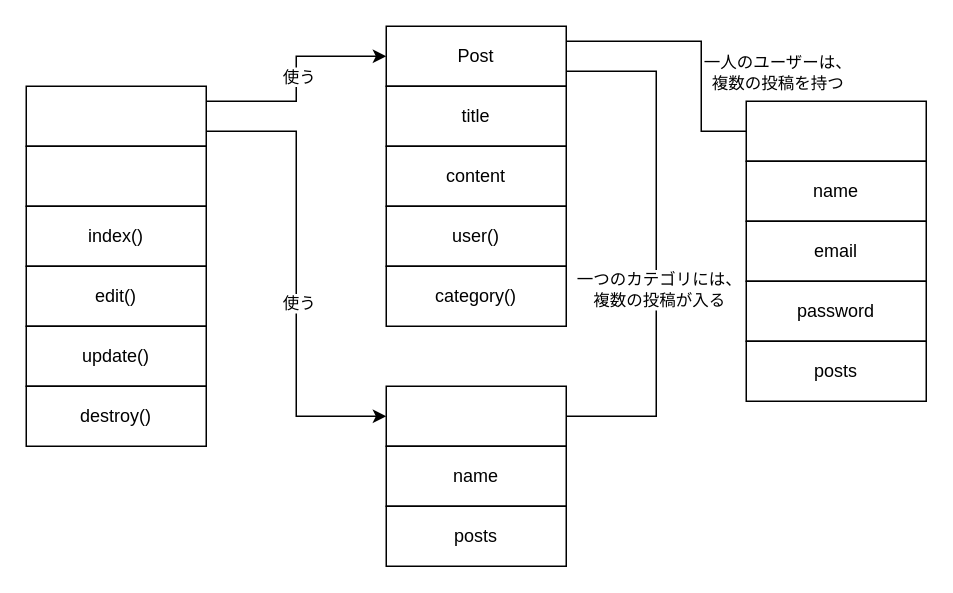
Image size: 953x593. Some labels were removed from this diagram. The shapes that lost their labels are listed below. From the top down, each one's box as (x1, y1, x2, y2) in pixels, then its label:
(25, 85, 206, 146): PostController
(745, 100, 926, 161): User
(385, 385, 566, 446): Category
